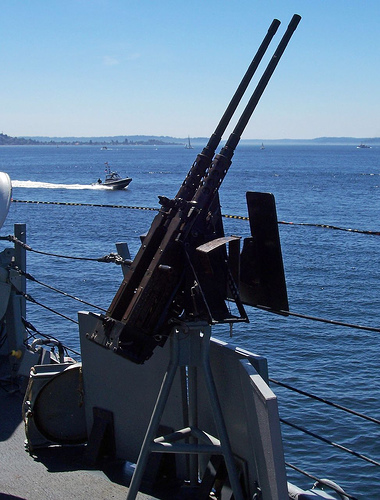rifle: (95, 12, 300, 365)
